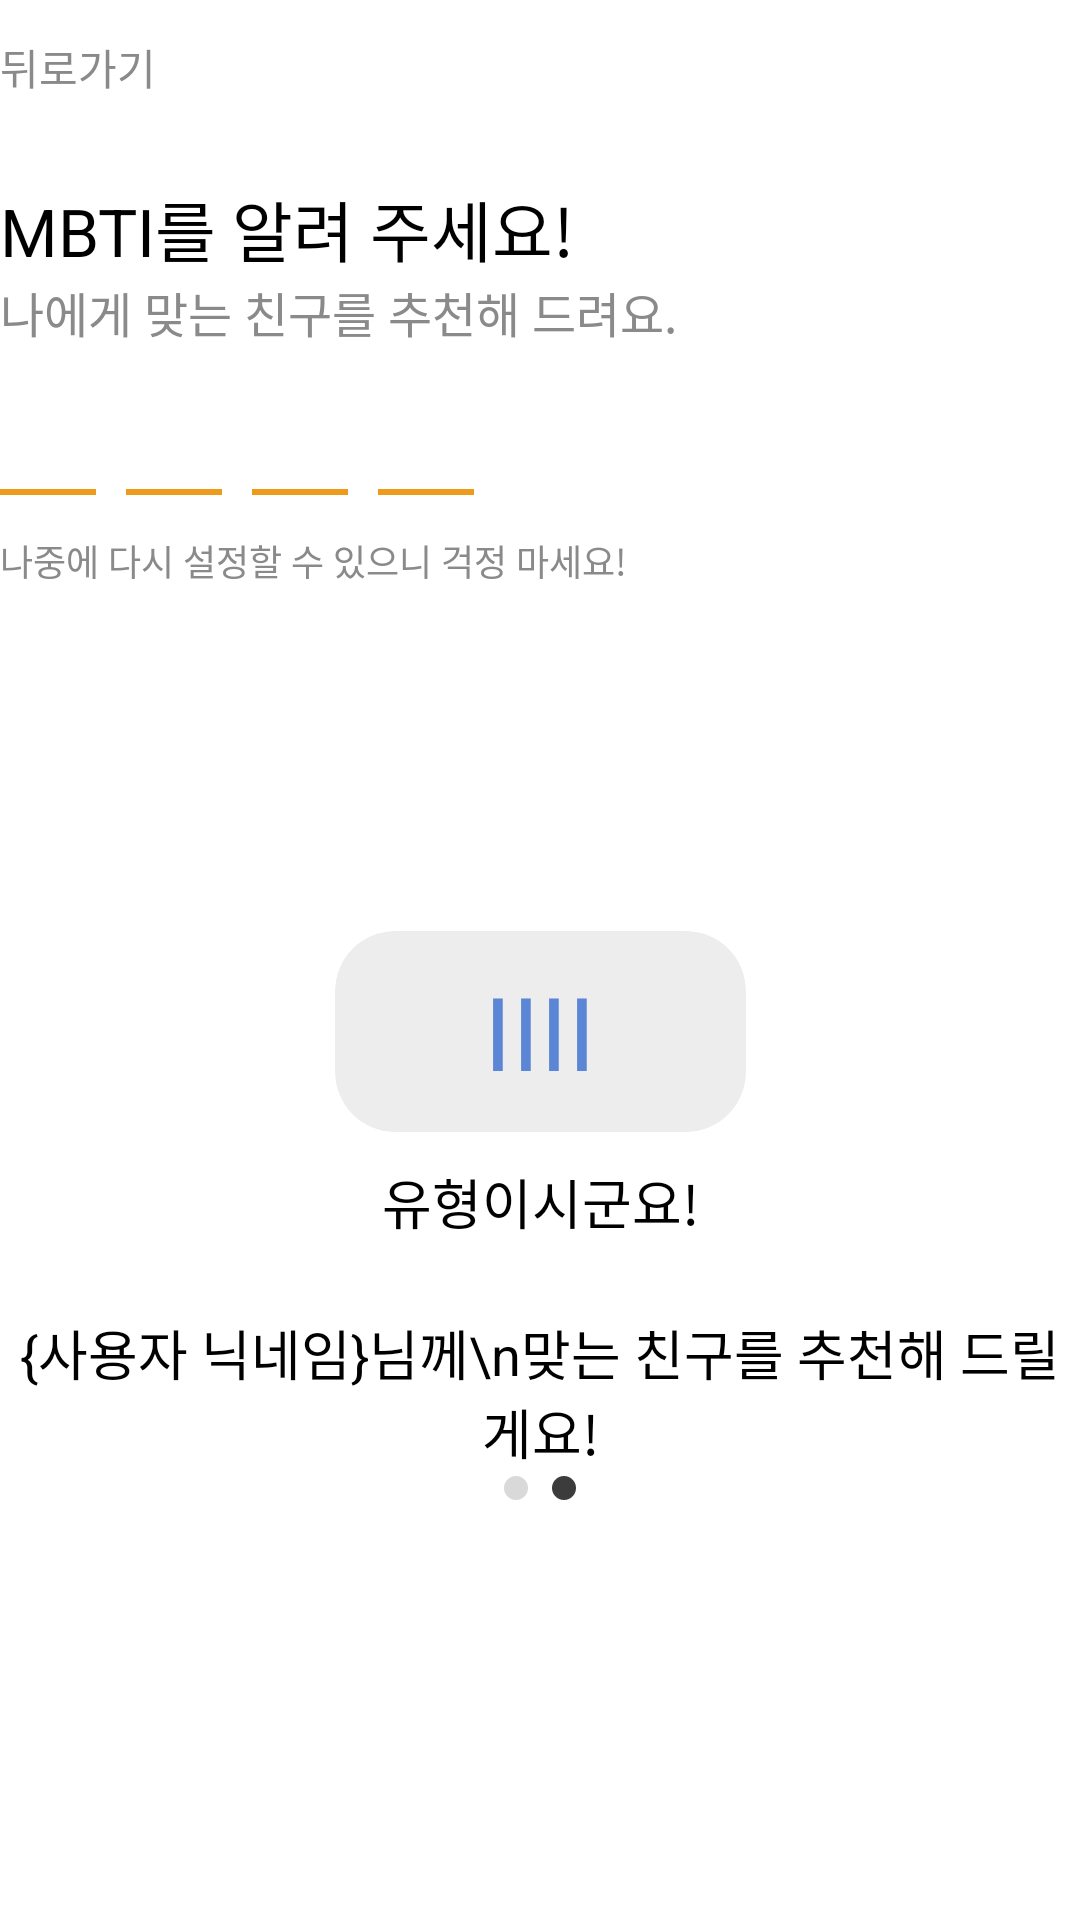

Named icons in this screenshot (1080px×1920px) and their bounding boxes, (x1, y1, x2, y2):
dot two: (504, 1476, 576, 1500)
